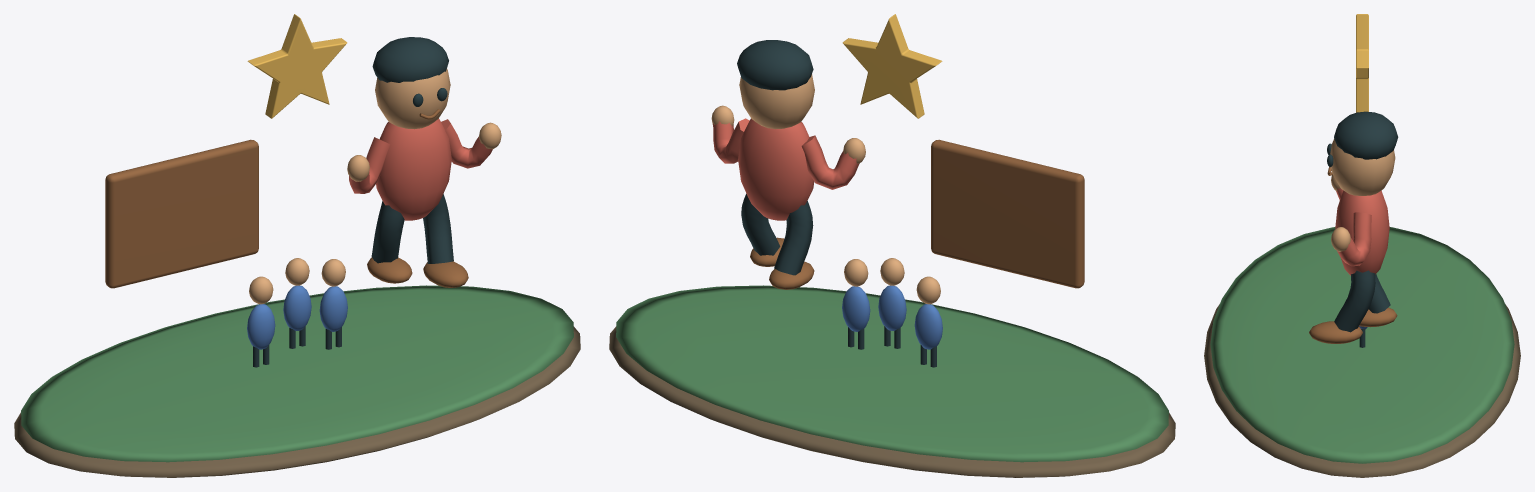
The model's file is complete-first-display-performance.glb.
3 renders of one model, left to right at view 1: azimuth 30°, elevation 25°; view 2: azimuth 150°, elevation 25°; view 3: azimuth 270°, elevation 25°, orthographic. The views are drawn at different scales.
Parts seen in each view (by area): view 1: complete-first-display-performance_surface_01, complete-first-display-performance_surface_02, complete-first-display-performance_surface_00, complete-first-display-performance_surface_05, complete-first-display-performance_surface_04, complete-first-display-performance_surface_03, complete-first-display-performance_surface_06, complete-first-display-performance_surface_07; view 2: complete-first-display-performance_surface_01, complete-first-display-performance_surface_02, complete-first-display-performance_surface_00, complete-first-display-performance_surface_05, complete-first-display-performance_surface_04, complete-first-display-performance_surface_03, complete-first-display-performance_surface_06, complete-first-display-performance_surface_07; view 3: complete-first-display-performance_surface_01, complete-first-display-performance_surface_00, complete-first-display-performance_surface_04, complete-first-display-performance_surface_05, complete-first-display-performance_surface_03, complete-first-display-performance_surface_02, complete-first-display-performance_surface_06.
Boxes of the visible parts, x1=… form: complete-first-display-performance_surface_01: x1=21, y1=285, x2=573, y2=462; complete-first-display-performance_surface_02: x1=105, y1=109, x2=468, y2=288; complete-first-display-performance_surface_00: x1=14, y1=326, x2=580, y2=477; complete-first-display-performance_surface_05: x1=349, y1=118, x2=492, y2=220; complete-first-display-performance_surface_04: x1=253, y1=37, x2=453, y2=367; complete-first-display-performance_surface_03: x1=249, y1=69, x2=501, y2=304; complete-first-display-performance_surface_06: x1=247, y1=14, x2=347, y2=118; complete-first-display-performance_surface_07: x1=247, y1=285, x2=347, y2=349; complete-first-display-performance_surface_01: x1=616, y1=285, x2=1168, y2=462; complete-first-display-performance_surface_02: x1=750, y1=139, x2=1084, y2=289; complete-first-display-performance_surface_00: x1=609, y1=326, x2=1175, y2=477; complete-first-display-performance_surface_05: x1=713, y1=118, x2=859, y2=220; complete-first-display-performance_surface_04: x1=737, y1=40, x2=936, y2=367; complete-first-display-performance_surface_03: x1=711, y1=74, x2=940, y2=304; complete-first-display-performance_surface_06: x1=842, y1=14, x2=942, y2=118; complete-first-display-performance_surface_07: x1=842, y1=285, x2=942, y2=349; complete-first-display-performance_surface_01: x1=1210, y1=227, x2=1514, y2=463; complete-first-display-performance_surface_00: x1=1204, y1=304, x2=1520, y2=477; complete-first-display-performance_surface_04: x1=1327, y1=111, x2=1398, y2=347; complete-first-display-performance_surface_05: x1=1335, y1=188, x2=1389, y2=275; complete-first-display-performance_surface_03: x1=1330, y1=139, x2=1395, y2=251; complete-first-display-performance_surface_02: x1=1309, y1=167, x2=1397, y2=343; complete-first-display-performance_surface_06: x1=1356, y1=14, x2=1368, y2=112.
Size of the model in its own units: 4.56 by 3.11 by 2.5.
